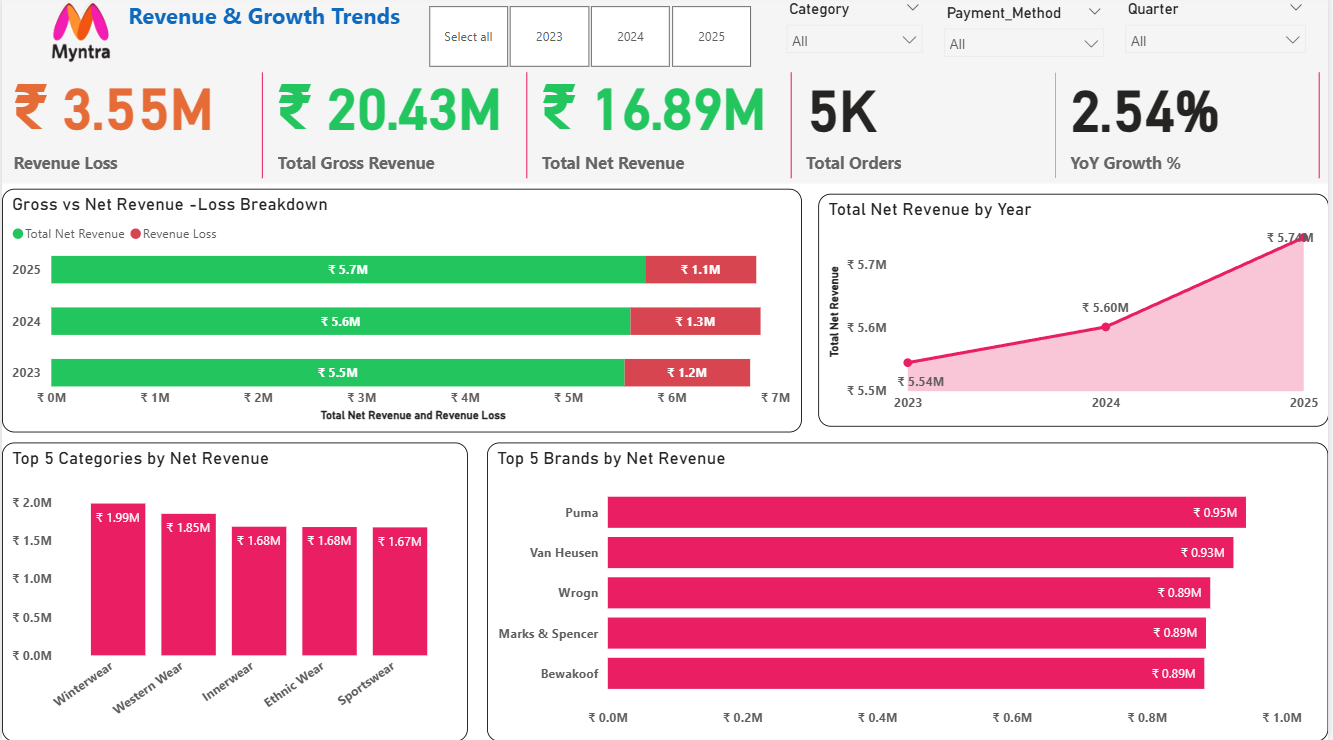

The page's visual inventory and layout, read from the dashboard file:
{"tool":"powerbi","page":{"name":"Revenue & Growth Trends","canvas":[1280,720],"ordinal":0},"visuals":[{"type":"shape","box":[0,181.9,1280.3,538.8],"z":0},{"type":"cardVisual","fields":{"Data":["sales_measures.Revenue Loss","sales_measures.Total Gross Revenue","sales_measures.Total Net Revenue","sales_measures.Total Orders","sales_measures.YoY Net_Growth %"]},"box":[0,69.4,1280.3,112.5],"z":1000},{"type":"slicer","fields":{"Values":["Date_Table.Year"]},"box":[386,4.2,361,72.2],"z":2000},{"type":"lineChart","fields":{"Category":["Date_Table.Year"],"Y":["sales_measures.Total Net Revenue"]},"box":[787.3,191.6,493,225],"z":3000},{"type":"image","box":[0,0,154.1,69.4],"z":4000},{"type":"barChart","title":"Gross vs Net Revenue -Loss Breakdown","fields":{"Category":["Date_Table.Year"],"Y":["sales_measures.Total Net Revenue","sales_measures.Revenue Loss"]},"box":[0,186.7,771.7,235],"z":5000},{"type":"slicer","fields":{"Values":["dim_product.Category"]},"box":[747.1,0,151.4,69.4],"z":6000},{"type":"slicer","fields":{"Values":["Date_Table.Quarter"]},"box":[1073.4,0,194.4,72.2],"z":7000},{"type":"textbox","box":[154.1,0,263.8,72.2],"z":8000},{"type":"columnChart","title":"Top 5 Categories by Net Revenue ","fields":{"Y":["sales_measures.Total Net Revenue"],"Category":["dim_product.Category"]},"box":[0,431.9,449.9,288.8],"z":9000},{"type":"barChart","title":"Top 5 Brands by Net Revenue ","fields":{"Category":["dim_product.Brand"],"Y":["sales_measures.Total Net Revenue"]},"box":[468,431.9,812.3,288.8],"z":10000},{"type":"slicer","fields":{"Values":["fact_sales.Payment_Method"]},"box":[898.4,4.2,175,69.4],"z":11000}]}

Visuals, with their boxes in screenshot pixels (x1, y1, x2, y2), scaled from the page's 1280x720 canvas onto the 1333x740 screenshot:
shape: x1=0, y1=187, x2=1332, y2=739
cardVisual - sales_measures.Revenue Loss x sales_measures.Total Gross Revenue: x1=0, y1=71, x2=1332, y2=187
slicer - Date_Table.Year: x1=402, y1=4, x2=778, y2=79
lineChart - Date_Table.Year x sales_measures.Total Net Revenue: x1=820, y1=197, x2=1332, y2=428
image: x1=0, y1=0, x2=160, y2=71
"Gross vs Net Revenue -Loss Breakdown" barChart: x1=0, y1=192, x2=804, y2=433
slicer - dim_product.Category: x1=778, y1=0, x2=936, y2=71
slicer - Date_Table.Quarter: x1=1118, y1=0, x2=1320, y2=74
textbox: x1=160, y1=0, x2=435, y2=74
"Top 5 Categories by Net Revenue " columnChart: x1=0, y1=444, x2=469, y2=739
"Top 5 Brands by Net Revenue " barChart: x1=487, y1=444, x2=1332, y2=739
slicer - fact_sales.Payment_Method: x1=936, y1=4, x2=1118, y2=76
